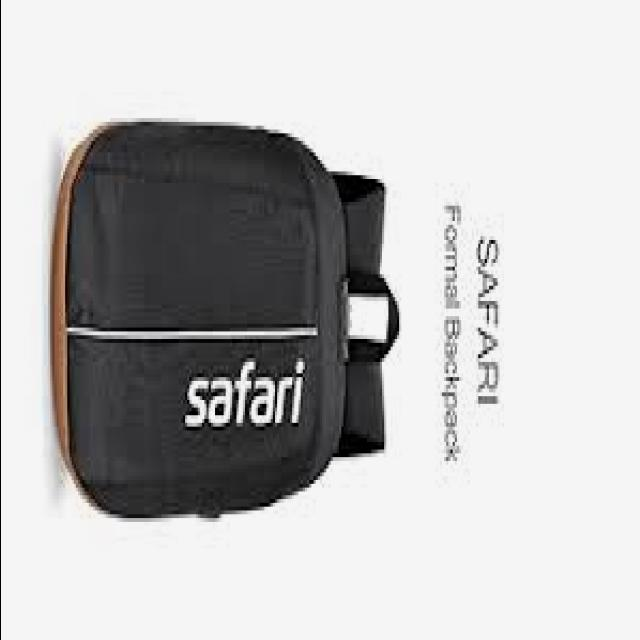backpack: (53, 119, 402, 523)
